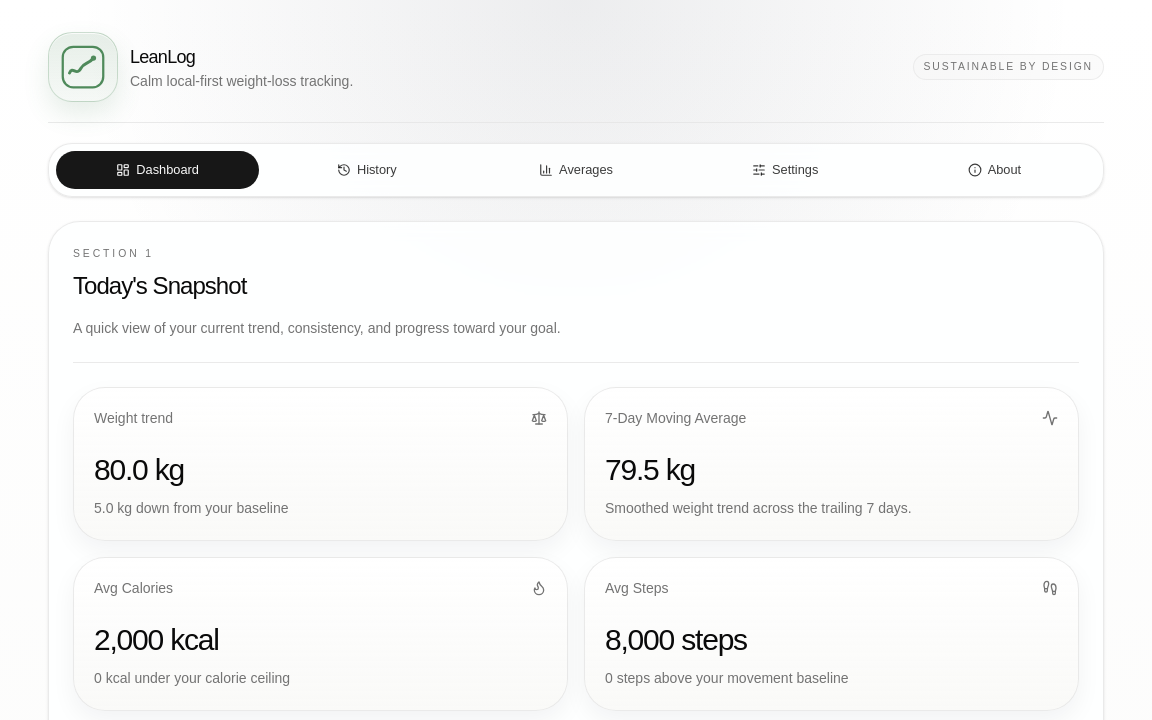
App › switches to the monthly averages page from the averages page controls
Click the button "Averages" at (576, 170), box x1=473 y1=150 x2=679 y2=190
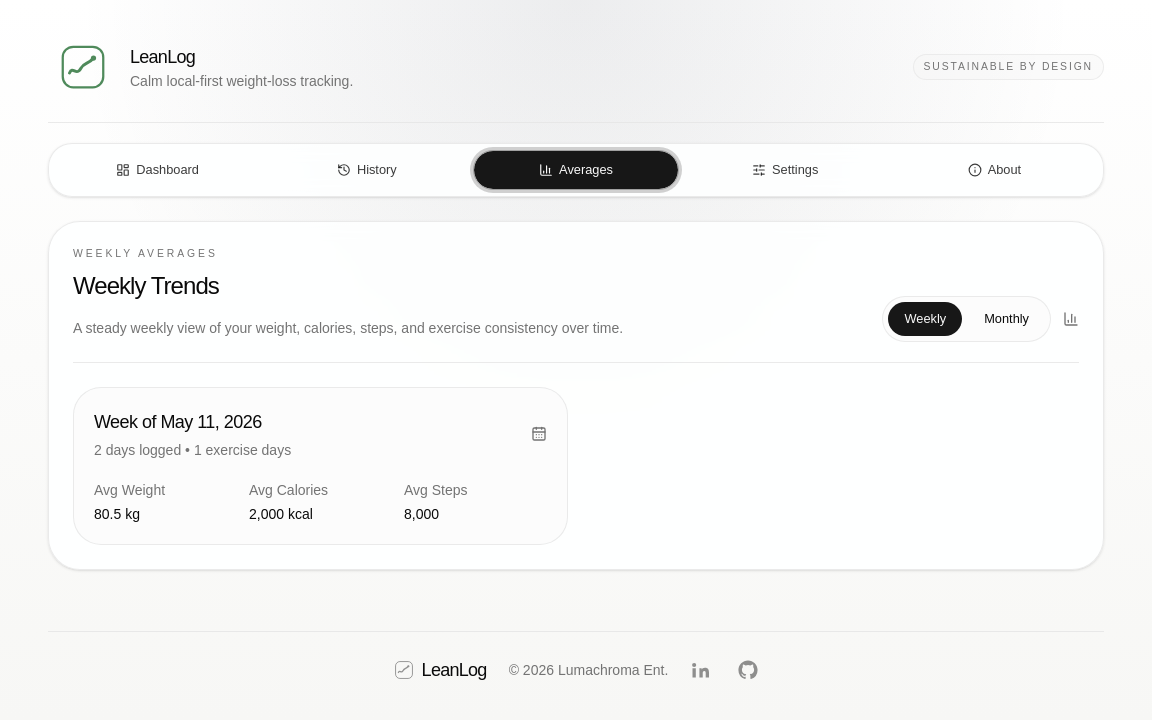
Click the button "Monthly" at (1007, 319), box x1=967 y1=301 x2=1046 y2=337
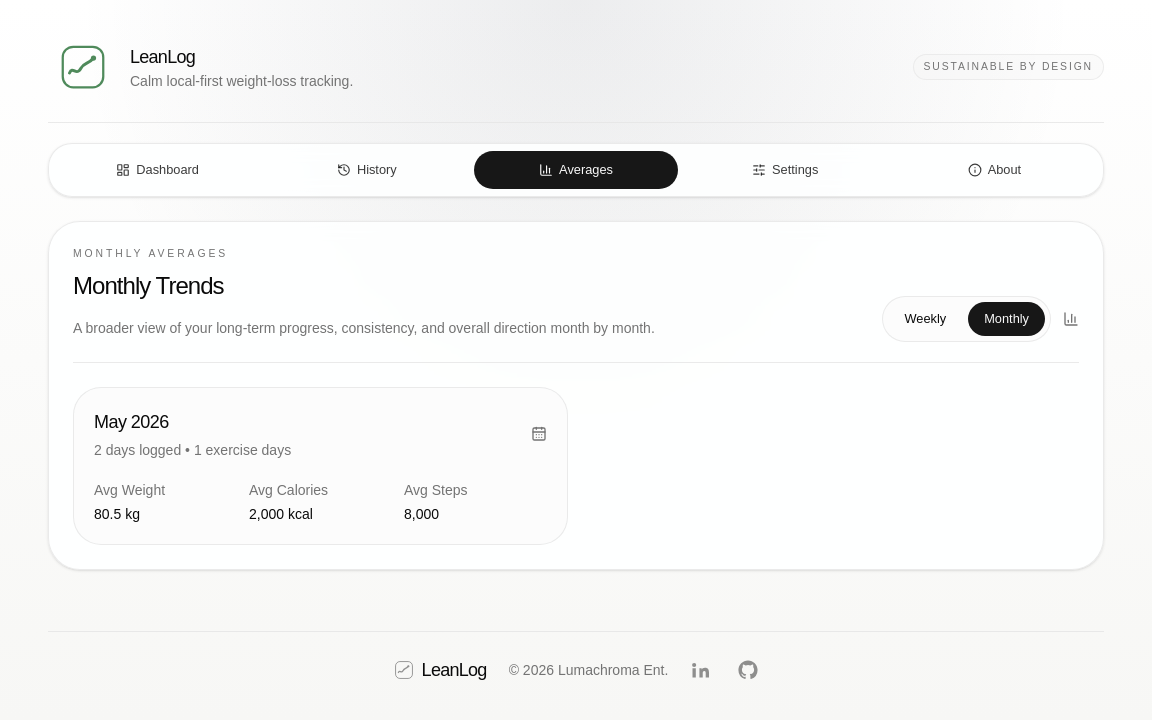
expect the heading "Monthly Trends" is shown: met, box x1=73 y1=272 x2=224 y2=299
expect the heading "May 2026" is shown: met, box x1=94 y1=412 x2=169 y2=432
